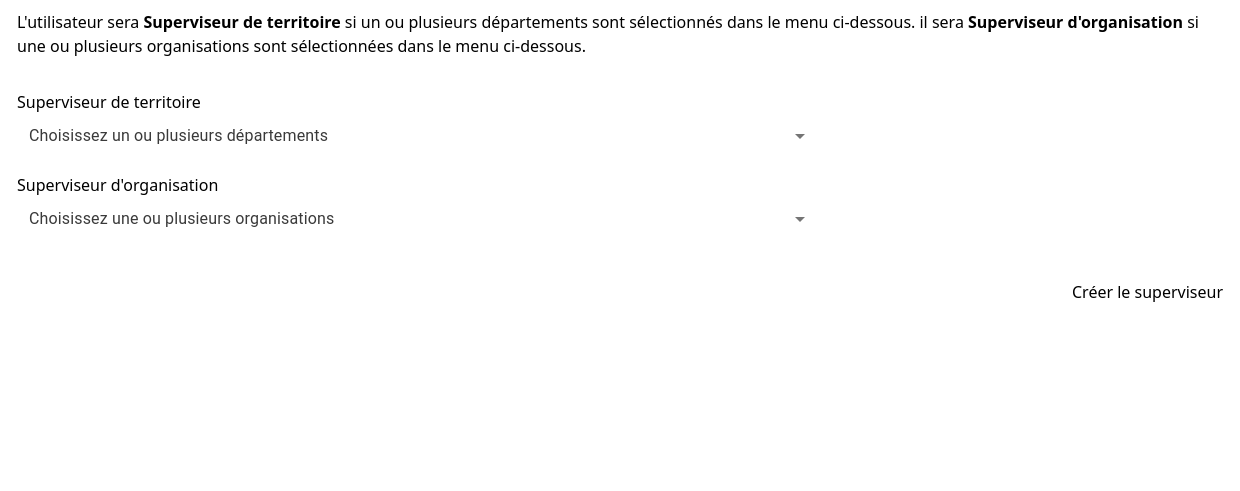
Scenario: CreateSupervisorContent › should display organization name with shortName when they differ
Click the dropdown with placeholder "Choisissez une ou plusieurs organisations".
click(404, 218)  # box x1=25 y1=197 x2=782 y2=240
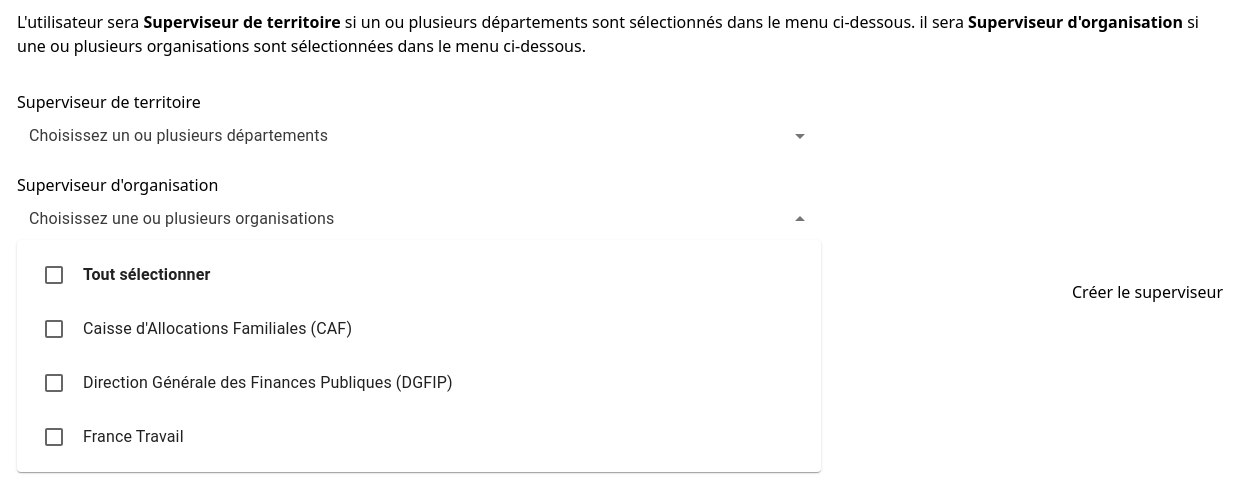
Result: the option "Caisse d'Allocations Familiales (CAF)" is shown at x1=42 y1=317 x2=352 y2=341
Result: the text "(CAF)" is shown at x1=311 y1=317 x2=352 y2=341
Result: the option "Direction Générale des Finances Publiques" is shown at x1=42 y1=371 x2=453 y2=395
